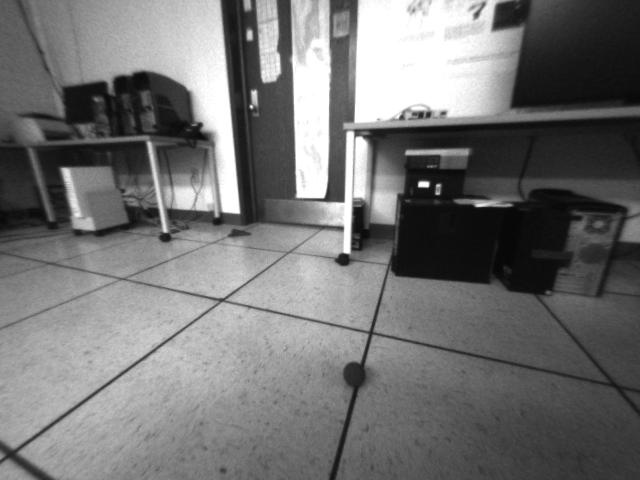dogtoy: (336, 354, 375, 392)
